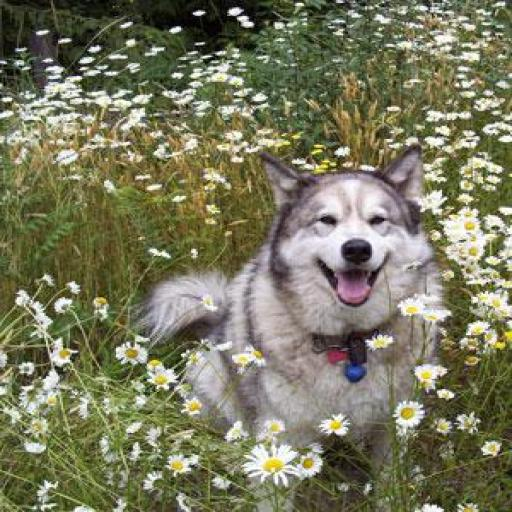dog_face: (257, 147, 436, 306)
